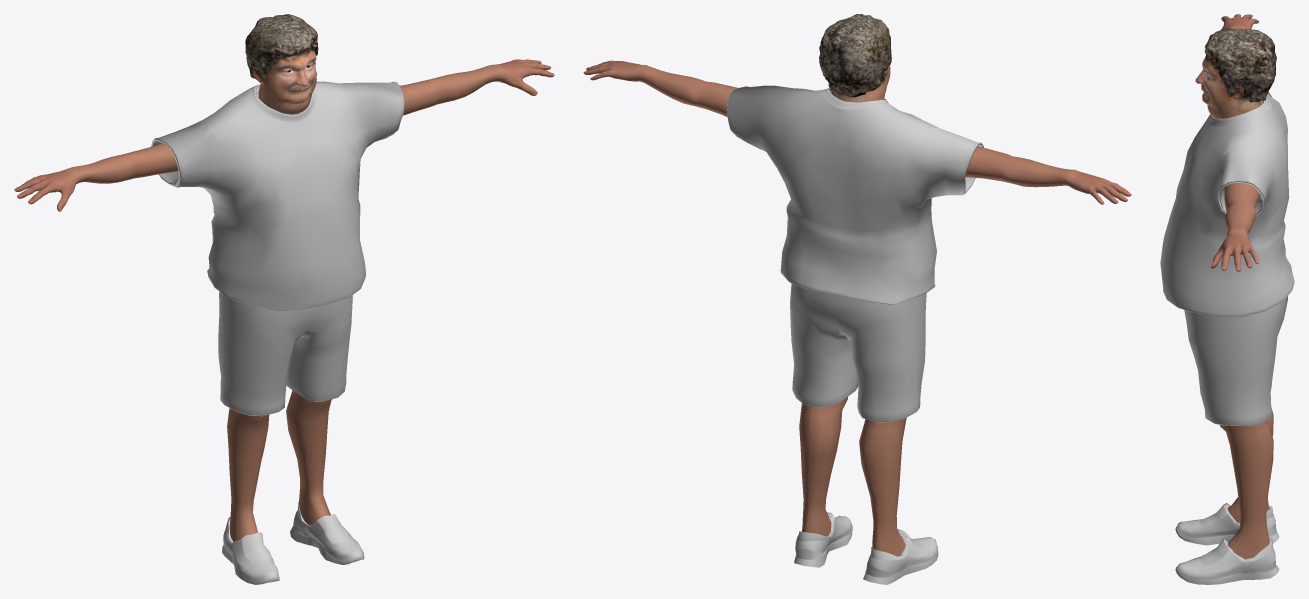
Rendered from joe_07_11_2016.fbx.
3 views of the same model, side by side, from view 1: azimuth 30°, elevation 25°; view 2: azimuth 150°, elevation 25°; view 3: azimuth 270°, elevation 25° (orthographic). The views are drawn at different scales.
Visible parts, largest first — view 1: clothing_geo, limbs_geo, hair_geo, head_geo; view 2: clothing_geo, limbs_geo, hair_geo; view 3: clothing_geo, limbs_geo, hair_geo, head_geo.
Part boxes in pixels (x1,y1,x2,y2): clothing_geo: (151,81,404,584); limbs_geo: (14,59,554,541); hair_geo: (245,14,318,81); head_geo: (251,47,316,114); clothing_geo: (727,85,983,584); limbs_geo: (583,60,1131,556); hair_geo: (819,14,891,97); clothing_geo: (1160,92,1294,584); limbs_geo: (1211,14,1273,559); hair_geo: (1204,29,1276,102); head_geo: (1195,54,1262,118).
Size of the model in its own units: 34.43 by 32.97 by 7.64.
